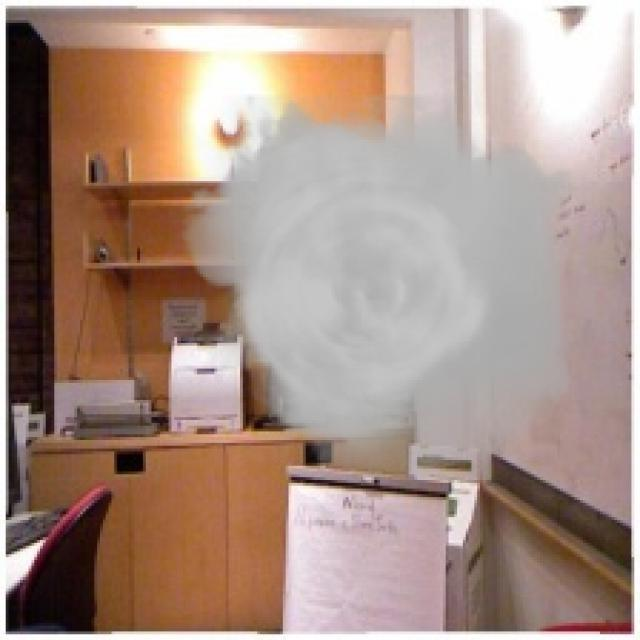Smoke: (168, 94, 594, 480)
